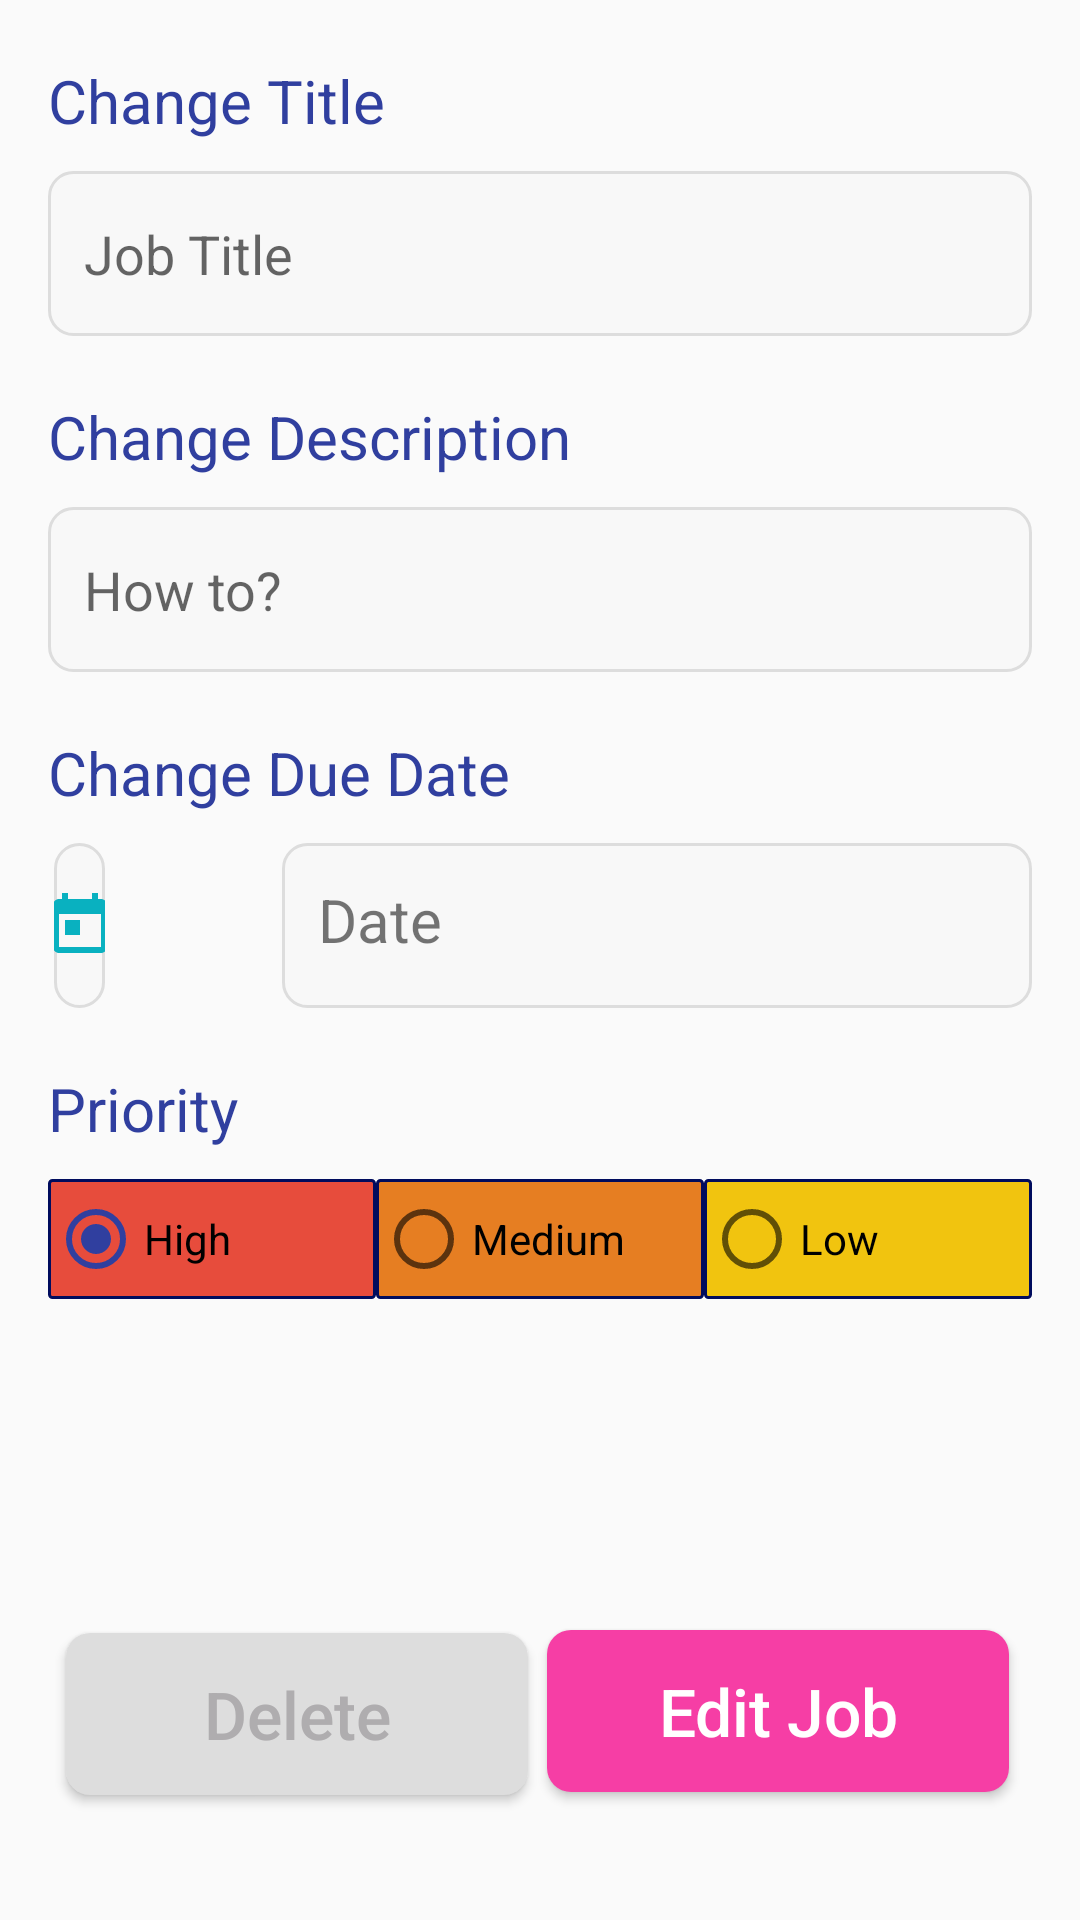

Screen size 1080 × 1920. Icon name, then its center in pixels as (x=x, y=y):
today: (x=79, y=925)
